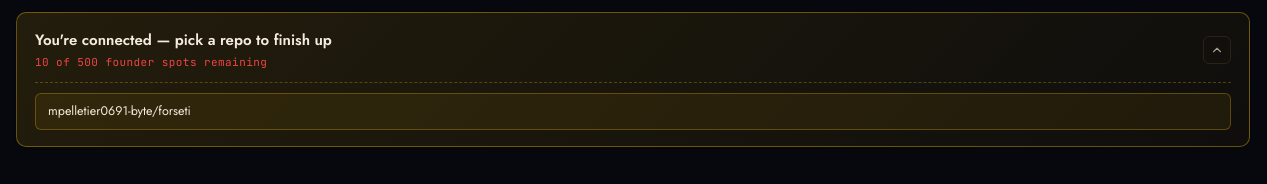
Test: Bug-3/Bug-2 — confirmed different sub-causes, each fixed + tested › t_already_added_shows_open_existing_project
Later steps or results of the test are not shown.
What coordinates should you click on to do the following:
click the button with test id "connect-repo-banner-repo-mpelletier0691-byte/forseti"
I would click on:
 (119, 111)
Its box is 35,93 -> 1231,130.
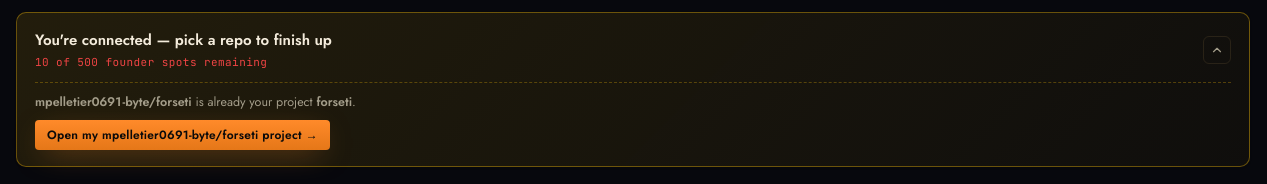
expect the element with test id "connect-repo-banner-already-connected" shows "forseti": met, box 316,93 -> 352,111
expect the element with test id "connect-repo-banner-already-connected" shows "already your project": met, box 192,93 -> 313,111
